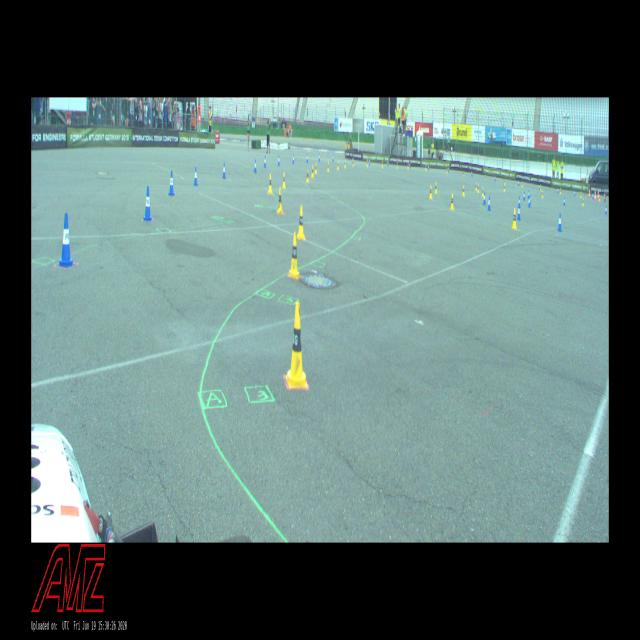blue_cone: (57, 214, 75, 267), (144, 187, 152, 220), (168, 170, 174, 196), (194, 167, 198, 186), (558, 214, 562, 232), (517, 204, 521, 220), (222, 163, 225, 178), (254, 160, 257, 172), (488, 196, 490, 211), (484, 192, 486, 205), (264, 156, 266, 168), (518, 196, 520, 207), (278, 155, 280, 166), (292, 154, 294, 164), (523, 191, 525, 200), (529, 195, 531, 204), (605, 206, 607, 214), (528, 198, 530, 206), (564, 198, 566, 205), (494, 175, 496, 182), (574, 190, 576, 196), (592, 193, 594, 198), (528, 190, 529, 198), (307, 154, 308, 162), (332, 155, 333, 162), (448, 166, 449, 173), (319, 154, 320, 160), (539, 184, 540, 190), (369, 159, 370, 165), (428, 165, 429, 170), (472, 170, 472, 176), (558, 188, 558, 193), (388, 161, 388, 166), (410, 162, 410, 168)
large_orange_cone: (604, 190, 606, 202), (594, 190, 596, 200), (597, 190, 599, 200), (589, 189, 590, 198)
yellow_cone: (286, 302, 307, 387), (288, 232, 300, 279), (297, 206, 305, 239), (277, 187, 283, 213), (512, 209, 516, 229), (268, 174, 272, 193), (450, 193, 454, 210), (282, 172, 286, 188), (306, 169, 309, 182), (430, 185, 432, 199), (435, 182, 437, 194), (312, 166, 314, 177), (315, 163, 317, 173), (462, 186, 464, 196), (327, 162, 329, 171), (337, 161, 339, 170), (482, 187, 484, 196), (475, 183, 477, 191), (582, 198, 584, 206), (477, 184, 479, 192), (366, 159, 368, 167), (503, 184, 505, 192), (560, 187, 562, 194), (446, 167, 448, 174), (484, 174, 486, 181), (352, 160, 354, 166), (580, 192, 582, 198), (504, 179, 506, 184), (345, 160, 346, 168), (542, 190, 543, 198), (382, 160, 383, 168), (540, 184, 541, 191), (397, 162, 398, 168), (599, 195, 600, 201), (463, 171, 464, 177), (522, 182, 523, 187), (426, 164, 426, 171), (408, 163, 408, 169)
